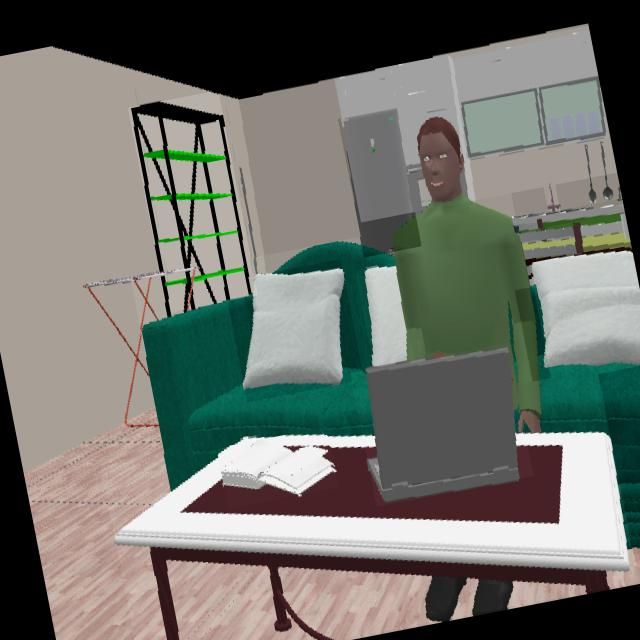book: (223, 440, 335, 494)
cabinet: (337, 26, 598, 200)
countertop: (513, 204, 623, 230)
fridge: (344, 108, 414, 252)
laptop: (367, 349, 519, 503)
person: (395, 119, 541, 430)
pillow: (534, 252, 640, 368), (246, 272, 345, 389), (365, 267, 407, 365)
shelf: (133, 101, 252, 309)
sink: (548, 183, 560, 212)
sofa: (144, 241, 394, 488), (532, 289, 640, 547)
table: (115, 432, 630, 640)
